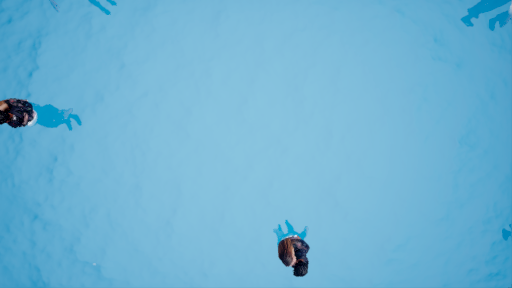person: (1, 95, 86, 139), (265, 220, 319, 275)
